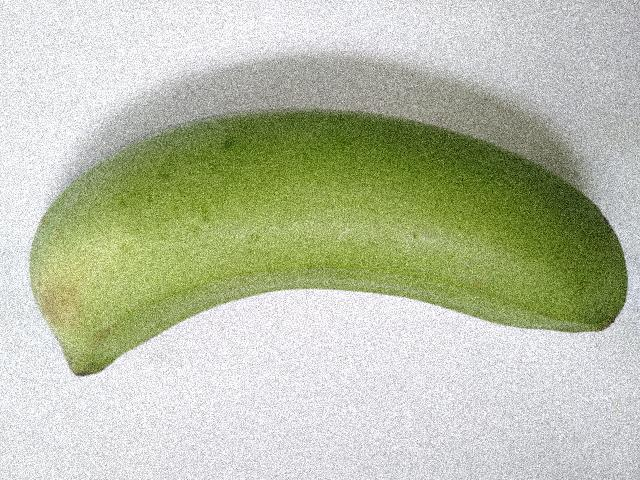freshunripe: (13, 92, 639, 397)
